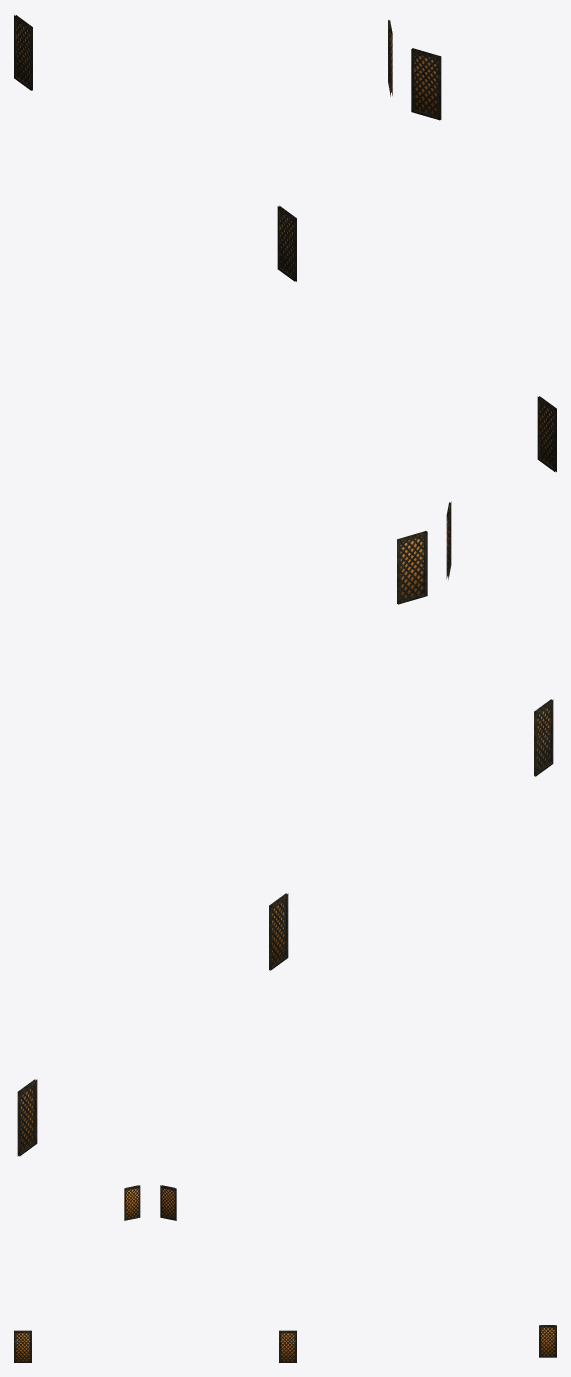
File: LAKETOWN_EXTERIOR_PS_LT_WINDOW_LONG_LOD1_52.fbx
3 views of the same model, one above another, from view 1: azimuth 30°, elevation 25°; view 2: azimuth 150°, elevation 25°; view 3: azimuth 270°, elevation 25° (orthographic). The views are drawn at different scales.
Parts seen in each view (by area): view 1: LAKETOWN_EXTERIOR_PS_LT_WINDOW_LONG_LOD1_52; view 2: LAKETOWN_EXTERIOR_PS_LT_WINDOW_LONG_LOD1_52; view 3: LAKETOWN_EXTERIOR_PS_LT_WINDOW_LONG_LOD1_52.
Boxes of the visible parts, x1=… form: LAKETOWN_EXTERIOR_PS_LT_WINDOW_LONG_LOD1_52: x1=14, y1=15, x2=556, y2=471; LAKETOWN_EXTERIOR_PS_LT_WINDOW_LONG_LOD1_52: x1=17, y1=501, x2=553, y2=1156; LAKETOWN_EXTERIOR_PS_LT_WINDOW_LONG_LOD1_52: x1=14, y1=1185, x2=556, y2=1362.
Bounding box in the file's own units: 5415 × 79043 × 225428.
2 materials, 2 textured.
